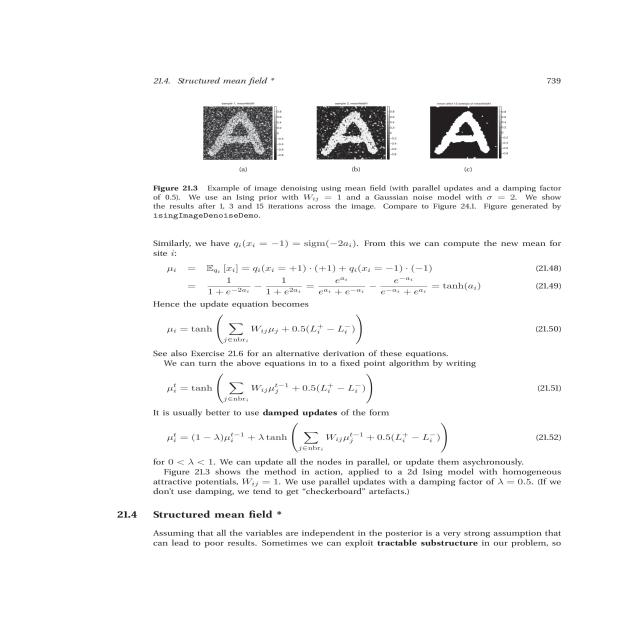diagram: (122, 96, 586, 229)
